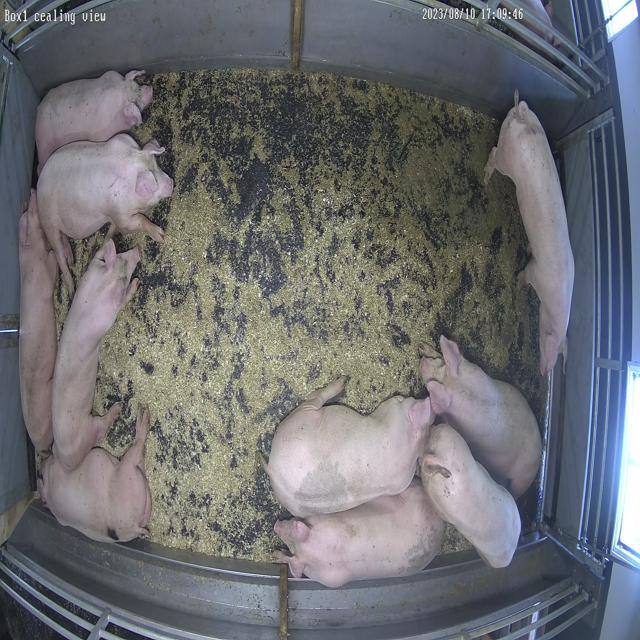Dirt: (153, 70, 540, 400)
Pig: (486, 101, 576, 374), (266, 377, 435, 518), (36, 134, 173, 284), (52, 239, 139, 470), (421, 336, 543, 498), (275, 480, 445, 588), (421, 425, 522, 568), (40, 414, 151, 544), (34, 70, 153, 172), (18, 191, 57, 454)
